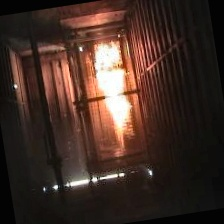fire: (89, 44, 145, 142)
